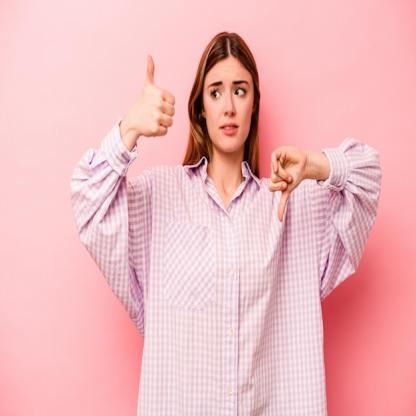thumb_down: (266, 144, 310, 225)
thumb_up: (132, 51, 178, 142)
